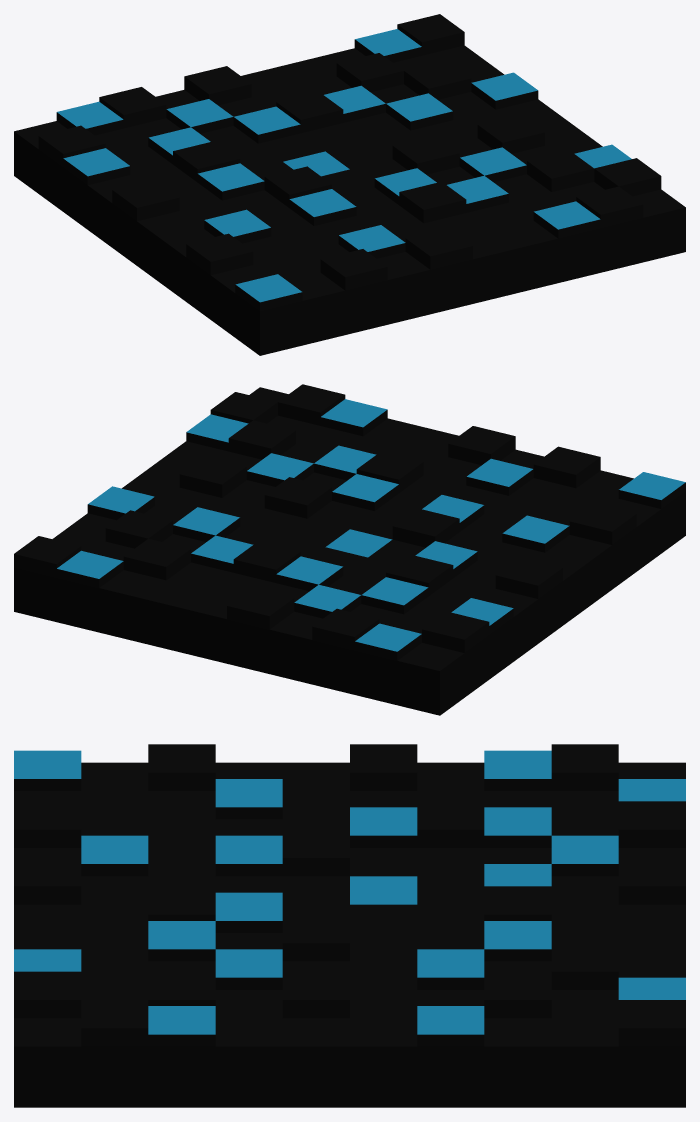
The model's file is Wall-Prog.FBX.
3 views of the same model, one above another, from view 1: azimuth 30°, elevation 25°; view 2: azimuth 150°, elevation 25°; view 3: azimuth 270°, elevation 25° (orthographic). The views are drawn at different scales.
Parts seen in each view (by area): view 1: Box002; view 2: Box002; view 3: Box002.
Part boxes in pixels (<box>): Box002: <box>14,14,685,355</box>; Box002: <box>14,384,685,715</box>; Box002: <box>14,744,685,1107</box>.
Size of the model in its own units: 127 by 16.51 by 127.
